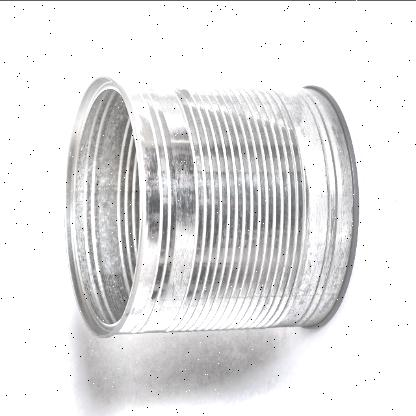Can: (58, 70, 362, 344)
